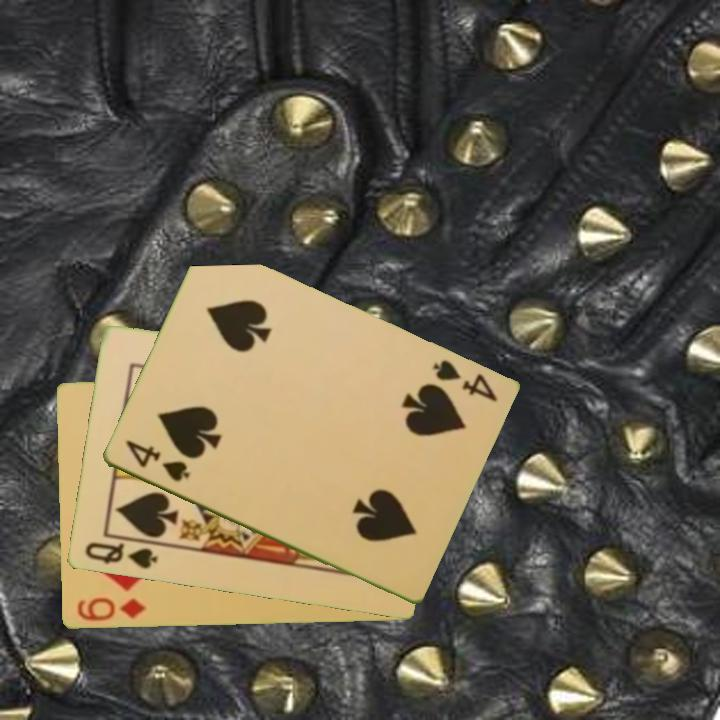4s: (428, 356, 500, 405), (121, 436, 192, 485)
6d: (73, 594, 149, 624)
Qs: (81, 539, 160, 572)
